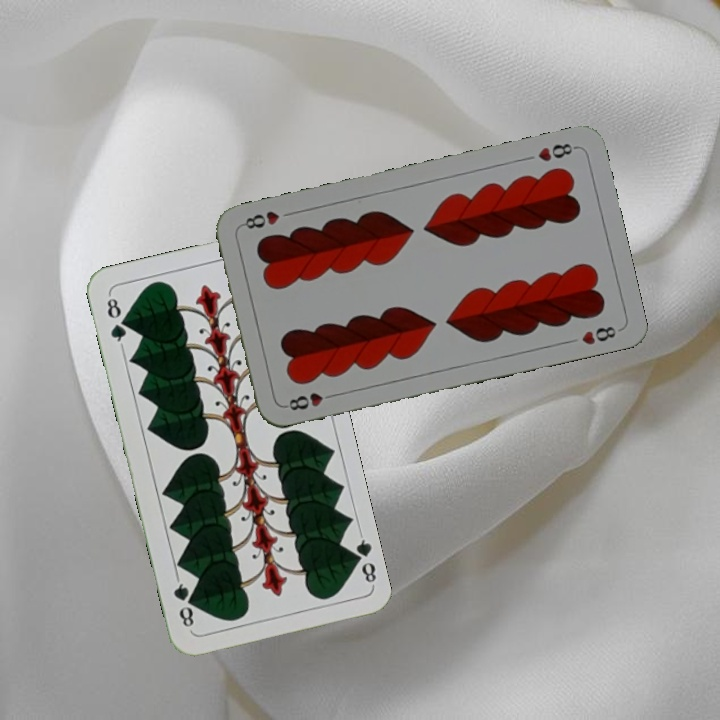G8: (346, 529, 379, 588), (103, 291, 130, 349)
H8: (281, 388, 339, 413), (534, 139, 579, 164)
